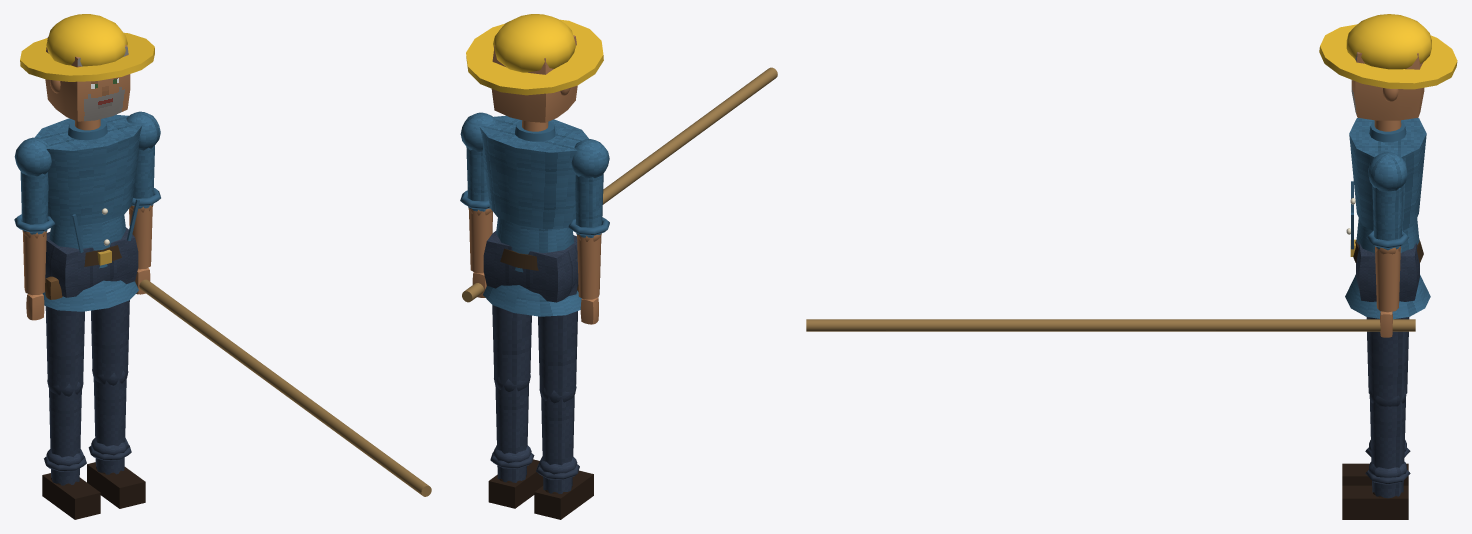
File: pescador.glb
The picture shows the model from 3 angles, left to right: view 1: azimuth 30°, elevation 25°; view 2: azimuth 150°, elevation 25°; view 3: azimuth 270°, elevation 25°; orthographic projection. The views are drawn at different scales.
Parts seen in each view (by area): view 1: pescador, object 27, object 33, object 34, object 30, object 1, object 8, object 10, object 3, object 7, object 14, object 17 (+5 smaller); view 2: pescador, object 34, object 33, object 1, object 27, object 8, object 3, object 10, object 30, object 7, object 17, object 14 (+9 smaller); view 3: pescador, object 27, object 34, object 33, object 8, object 10, object 30, object 14, object 23, object 25, object 22.
Boxes of the visible parts, <box> form: pescador: <box>35,114,142,311</box>; object 27: <box>139,279,431,496</box>; object 33: <box>46,14,127,66</box>; object 34: <box>20,32,154,81</box>; object 30: <box>45,36,130,121</box>; object 1: <box>45,306,84,389</box>; object 8: <box>91,300,129,378</box>; object 10: <box>93,376,126,474</box>; object 3: <box>49,387,81,485</box>; object 7: <box>42,473,100,519</box>; object 14: <box>87,462,145,508</box>; object 17: <box>20,171,48,234</box>; pescador: <box>479,115,588,316</box>; object 34: <box>466,19,603,95</box>; object 33: <box>493,14,575,72</box>; object 1: <box>538,282,577,395</box>; object 27: <box>462,67,777,302</box>; object 8: <box>492,305,531,384</box>; object 3: <box>541,393,574,493</box>; object 10: <box>495,382,528,482</box>; object 30: <box>491,35,577,122</box>; object 7: <box>534,470,593,519</box>; object 17: <box>575,174,603,237</box>; object 14: <box>488,459,543,508</box>; pescador: <box>1345,118,1430,319</box>; object 27: <box>806,319,1415,331</box>; object 34: <box>1319,24,1457,89</box>; object 33: <box>1346,14,1431,69</box>; object 8: <box>1366,317,1409,400</box>; object 10: <box>1369,397,1405,498</box>; object 30: <box>1351,52,1424,120</box>; object 14: <box>1342,485,1408,519</box>; object 23: <box>1372,185,1403,250</box>; object 25: <box>1375,246,1400,312</box>; object 22: <box>1368,152,1407,191</box>.
Size of the model in its own units: 0.6204 by 1.97 by 2.41.
Materials: 15 (4 with a texture image).
